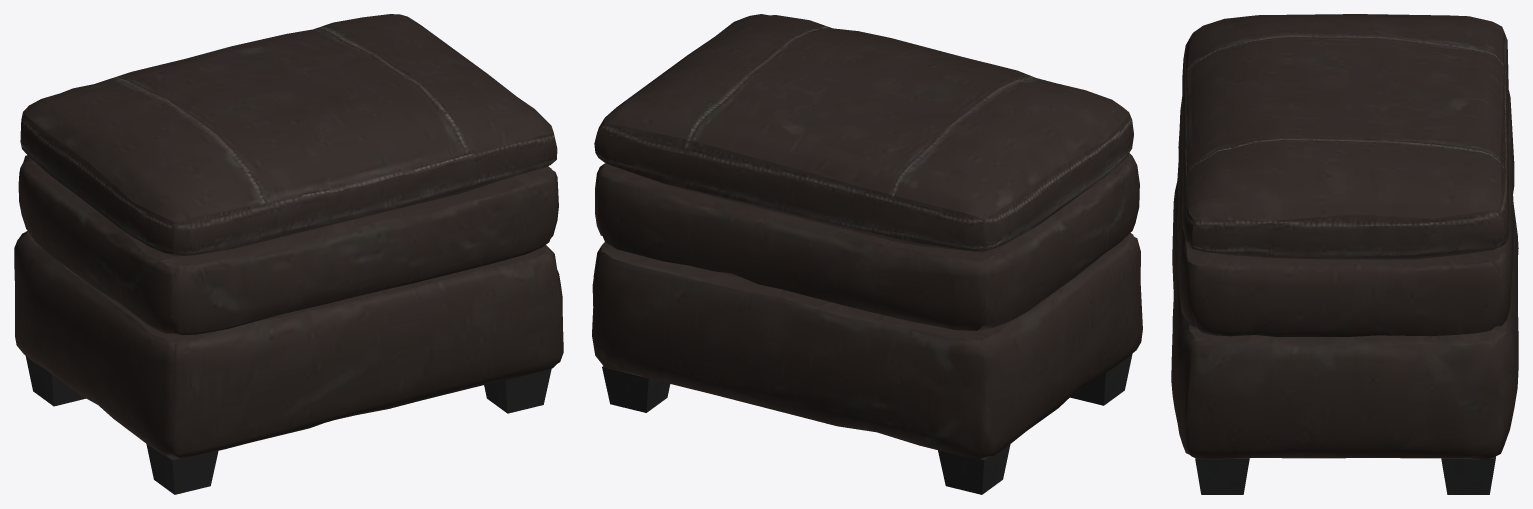
The model's file is ottoman_01.glb.
3 views of the same model, side by side, from view 1: azimuth 30°, elevation 25°; view 2: azimuth 150°, elevation 25°; view 3: azimuth 270°, elevation 25° (orthographic).
Parts seen in each view (by area): view 1: Ottoman_01; view 2: Ottoman_01; view 3: Ottoman_01.
Boxes of the visible parts, left/top/right/bottom form: Ottoman_01: left=14, top=14, right=563, bottom=494; Ottoman_01: left=592, top=14, right=1142, bottom=494; Ottoman_01: left=1171, top=14, right=1518, bottom=494.
Bounding box in the file's own units: 0.8842 × 0.6243 × 0.6211.
Materials: 1 (1 with a texture image).
